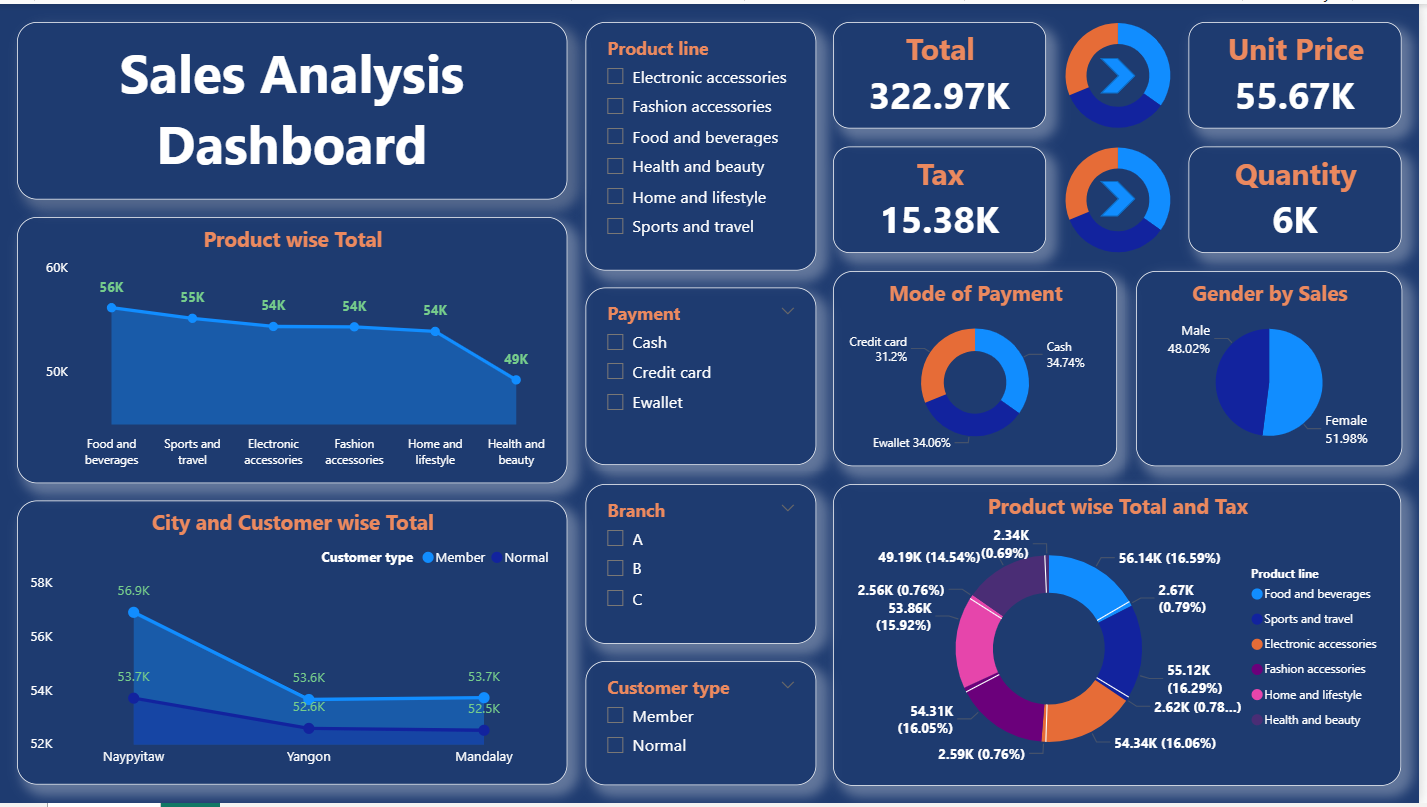

The page's visual inventory and layout, read from the dashboard file:
{"tool":"powerbi","page":{"name":"Page 1","canvas":[1280,720],"ordinal":0},"visuals":[{"type":"card","title":"Total ","fields":{"Values":["Sum(D6.Total)"]},"box":[752,16,192,96],"z":0},{"type":"card","title":"Tax","fields":{"Values":["Sum(D6.Tax 5%)"]},"box":[752,128,192,96],"z":1000},{"type":"card","title":"Unit Price","fields":{"Values":["Sum(D6.Unit price)"]},"box":[1072,16,192,96],"z":2000},{"type":"card","title":"Quantity","fields":{"Values":["Sum(D6.Quantity)"]},"box":[1072,128,192,96],"z":3000},{"type":"donutChart","title":"Product wise Total and Tax","fields":{"Category":["D6.Product line"],"Y":["Sum(D6.Total)","Sum(D6.Tax 5%)"]},"box":[752,432,512,272],"z":4000},{"type":"donutChart","title":"Mode of Payment","fields":{"Category":["D6.Payment"],"Y":["Sum(D6.Total)"]},"box":[752,240,256,176],"z":5000},{"type":"pieChart","title":"Gender by Sales","fields":{"Category":["D6.Gender"],"Y":["Sum(D6.Total)"]},"box":[1024,240,240,176],"z":6000},{"type":"areaChart","title":" Product wise Total","fields":{"Category":["D6.Product line"],"Y":["Sum(D6.Total)"]},"box":[16,192,496,240],"z":7000},{"type":"areaChart","title":"City  and Customer wise Total","fields":{"Category":["D6.City"],"Y":["Sum(D6.Total)"],"Series":["D6.Customer type"]},"box":[16,448,496,256],"z":8000},{"type":"slicer","fields":{"Values":["D6.Product line"]},"box":[528,16,208,224],"z":9000},{"type":"slicer","fields":{"Values":["D6.Payment"]},"box":[528,256,208,160],"z":10000},{"type":"slicer","fields":{"Values":["D6.Branch"]},"box":[528,432,208,144],"z":11000},{"type":"slicer","fields":{"Values":["D6.Customer type"]},"box":[528,592,208,112],"z":12000},{"type":"textbox","box":[16,16,496,160],"z":13000},{"type":"donutChart","title":"Mode of Payment","fields":{"Category":["D6.Payment"],"Y":["Sum(D6.Total)"]},"box":[880,0,256,128],"z":14000},{"type":"donutChart","title":"Mode of Payment","fields":{"Category":["D6.Payment"],"Y":["Sum(D6.Total)"]},"box":[880,112,256,128],"z":15000},{"type":"shape","box":[992,48,32,32],"z":16000},{"type":"shape","box":[992,160,32,32],"z":17000}]}

Visuals, with their boxes in screenshot pixels (x1, y1, x2, y2), scaled from the page's 1280x720 canvas onto the 1427x807 screenshot:
"Total " card: BBox(838, 18, 1052, 126)
"Tax" card: BBox(838, 143, 1052, 251)
"Unit Price" card: BBox(1195, 18, 1409, 126)
"Quantity" card: BBox(1195, 143, 1409, 251)
"Product wise Total and Tax" donutChart: BBox(838, 484, 1409, 789)
"Mode of Payment" donutChart: BBox(838, 269, 1124, 466)
"Gender by Sales" pieChart: BBox(1142, 269, 1409, 466)
" Product wise Total" areaChart: BBox(18, 215, 571, 484)
"City  and Customer wise Total" areaChart: BBox(18, 502, 571, 789)
slicer - D6.Product line: BBox(589, 18, 821, 269)
slicer - D6.Payment: BBox(589, 287, 821, 466)
slicer - D6.Branch: BBox(589, 484, 821, 646)
slicer - D6.Customer type: BBox(589, 664, 821, 789)
textbox: BBox(18, 18, 571, 197)
"Mode of Payment" donutChart: BBox(981, 0, 1266, 143)
"Mode of Payment" donutChart: BBox(981, 126, 1266, 269)
shape: BBox(1106, 54, 1142, 90)
shape: BBox(1106, 179, 1142, 215)
